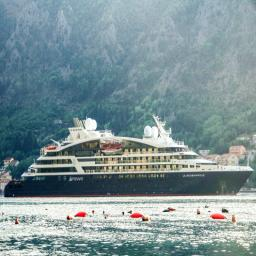cruises: (6, 108, 256, 201)
